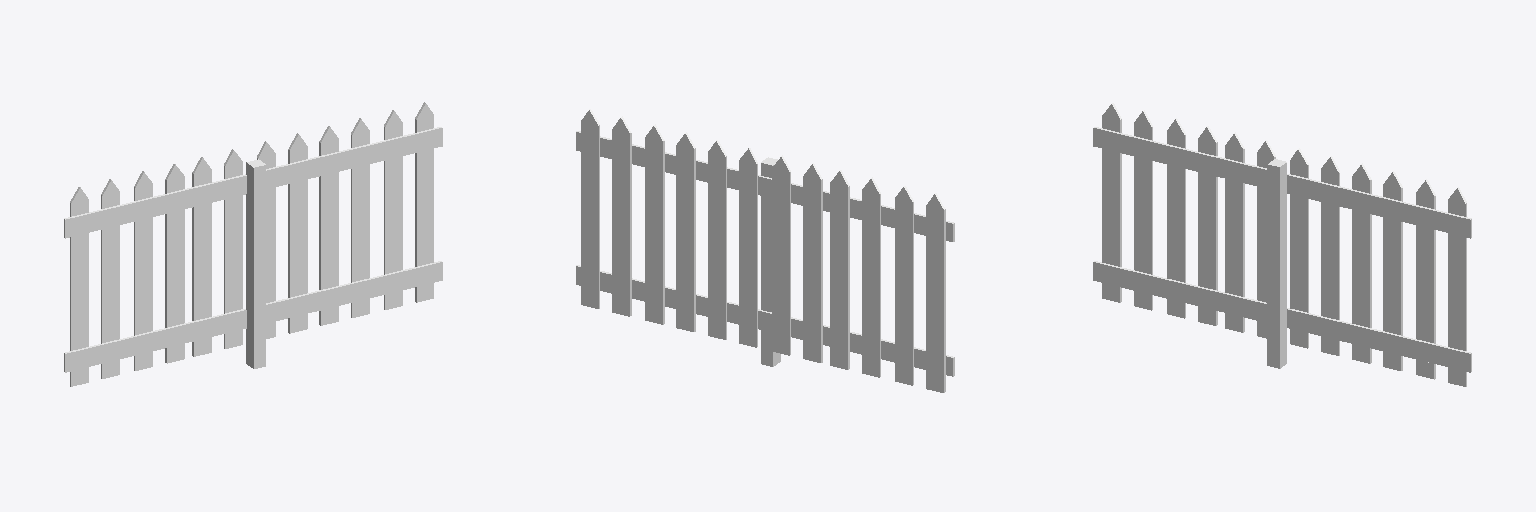
The model's file is fence2.obj.
The picture shows the model from 3 angles: view 1: azimuth 30°, elevation 25°; view 2: azimuth 150°, elevation 25°; view 3: azimuth 330°, elevation 25°; orthographic projection.
Parts seen in each view (by area): view 1: fence2; view 2: fence2; view 3: fence2.
Part boxes in pixels (left/top/right/bottom): fence2: left=64, top=102, right=442, bottom=386; fence2: left=576, top=109, right=954, bottom=392; fence2: left=1093, top=103, right=1471, bottom=386.
Size of the model in its own units: 3.09 by 1.69 by 0.1481.